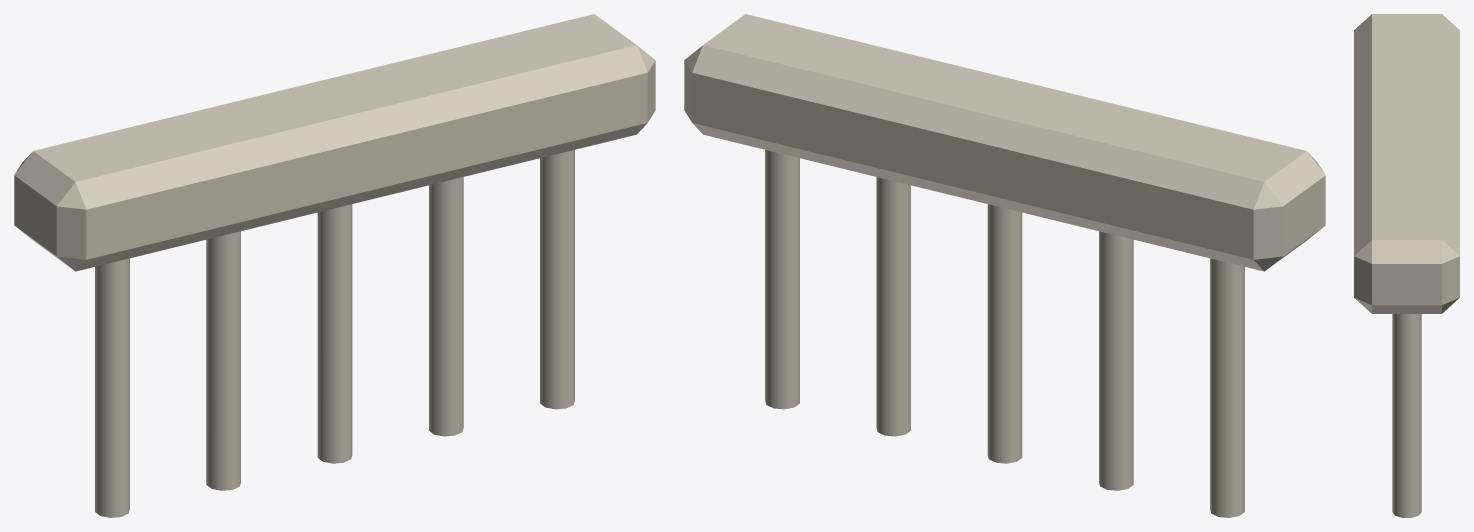
File: soft_tool.glb
3 views of the same model, side by side, from view 1: azimuth 30°, elevation 25°; view 2: azimuth 150°, elevation 25°; view 3: azimuth 270°, elevation 25° (orthographic). The views are drawn at different scales.
Visible parts, largest first — view 1: soft_tool; view 2: soft_tool; view 3: soft_tool.
Boxes of the visible parts, x1,y1,x2,y2 form: soft_tool: [14, 14, 655, 517]; soft_tool: [684, 14, 1325, 517]; soft_tool: [1354, 14, 1459, 517].
Bounding box in the file's own units: 0.315 × 0.18 × 0.0585.
